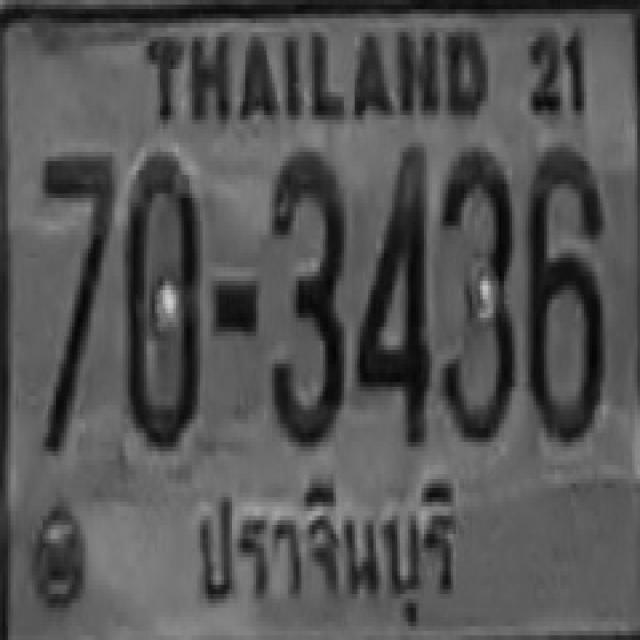0: (123, 147, 197, 442)
3: (268, 147, 343, 442), (440, 143, 512, 437)
4: (354, 138, 426, 438)
6: (525, 143, 600, 437)
7: (39, 150, 113, 444)
PrachinBuri: (178, 466, 471, 636)
